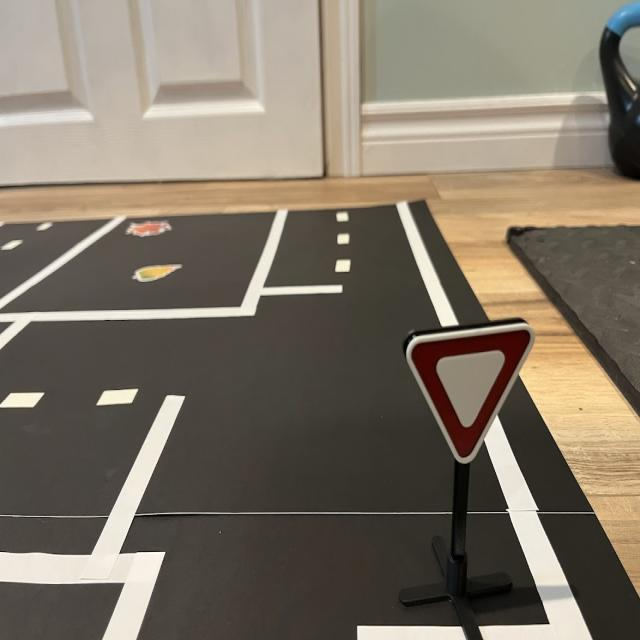sign_yield: (404, 320, 536, 466)
